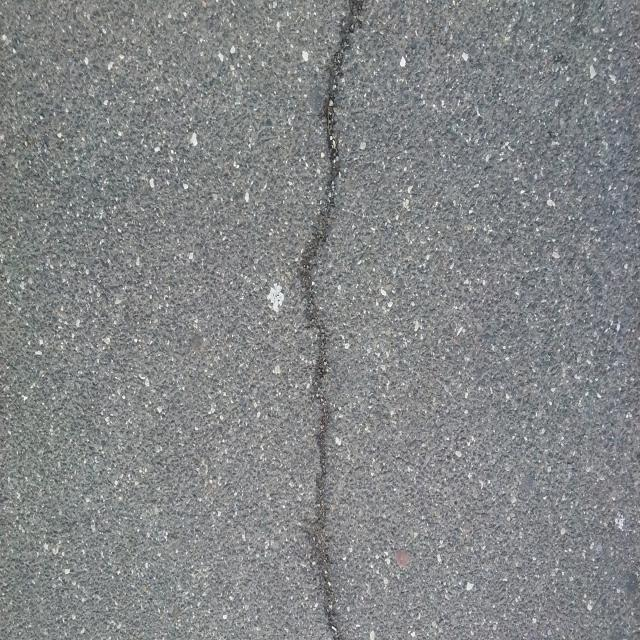Longitudial: (272, 3, 386, 640)
